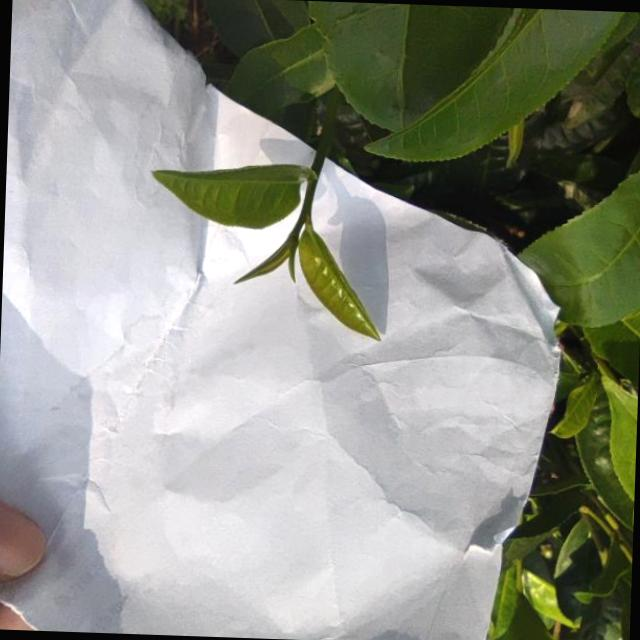Stem: (301, 180, 315, 210)
